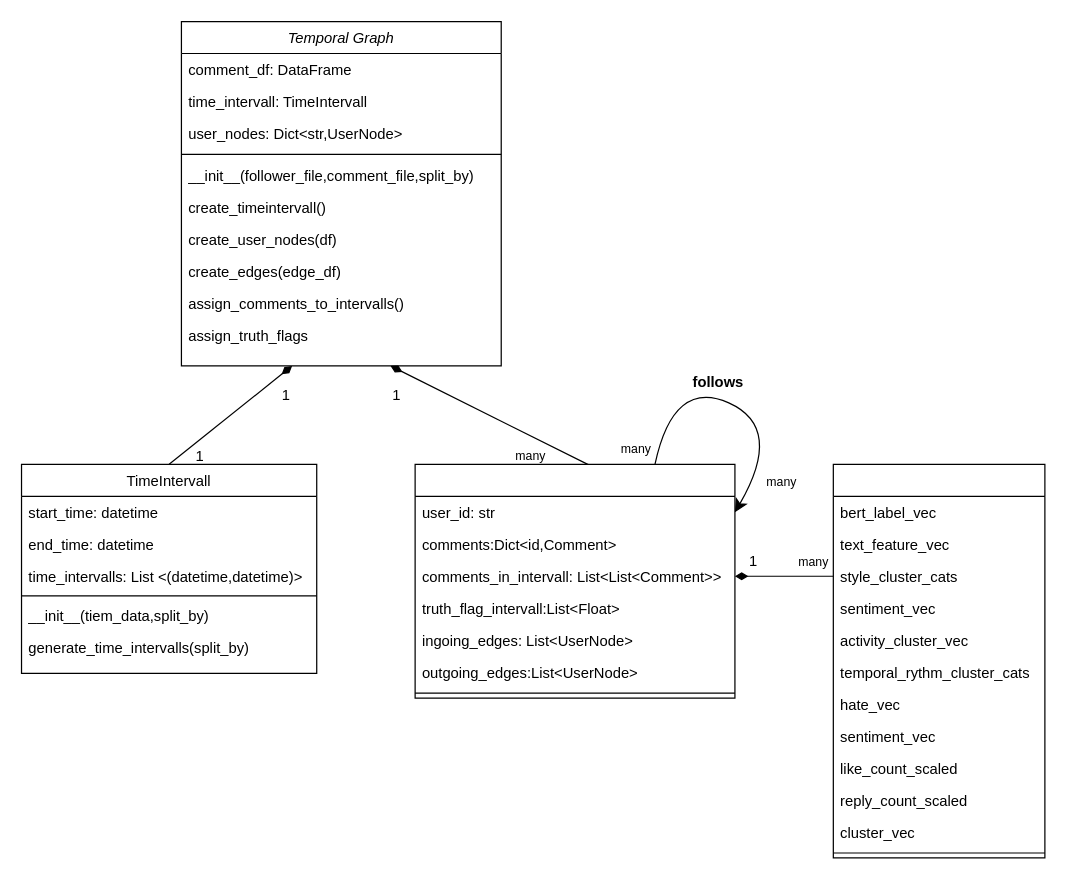
The diagram is 1066 pixels wide and 879 high, and some of its shapes have lost their labels. The box of each missing label's shape, as (x1, y1, x2, y2) in pixels:
Comment: (832, 463, 1045, 858)
UserNode: (414, 463, 735, 698)
